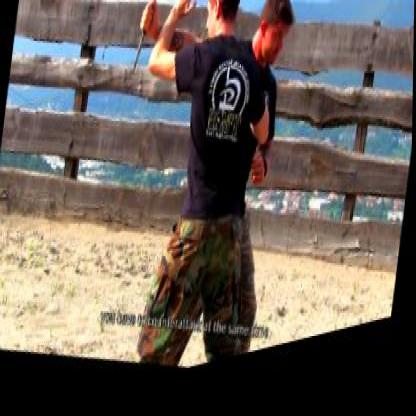knife: (127, 0, 158, 92)
